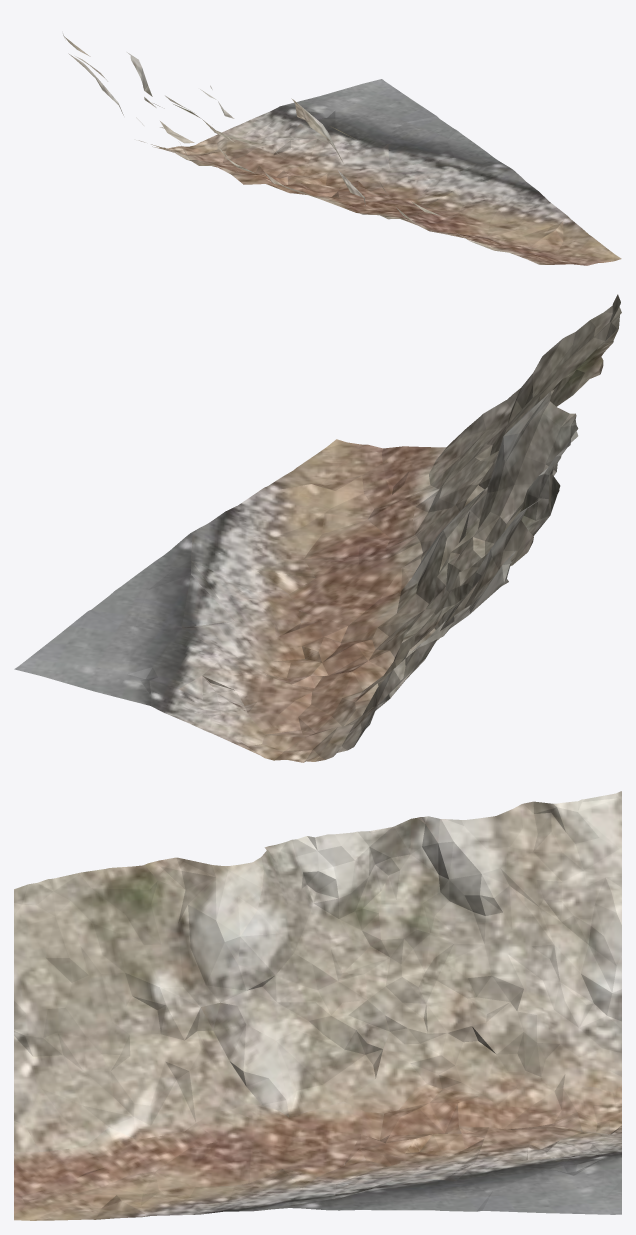
The picture shows the model from 3 angles, top to bottom: view 1: azimuth 30°, elevation 25°; view 2: azimuth 150°, elevation 25°; view 3: azimuth 270°, elevation 25°; orthographic projection. The views are drawn at different scales.
Size of the model in its own units: 2.61 by 1.19 by 2.95.
Materials: 2 (2 with a texture image).
